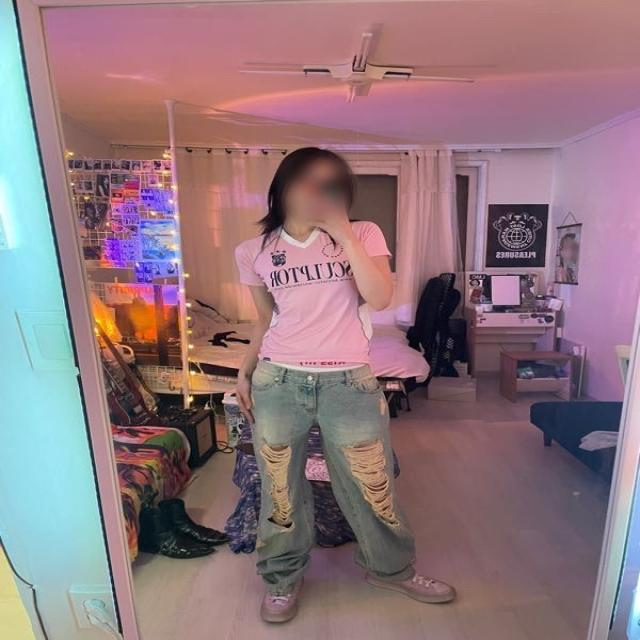denimpants: (253, 360, 420, 587)
shortsleeve: (234, 218, 391, 371)
